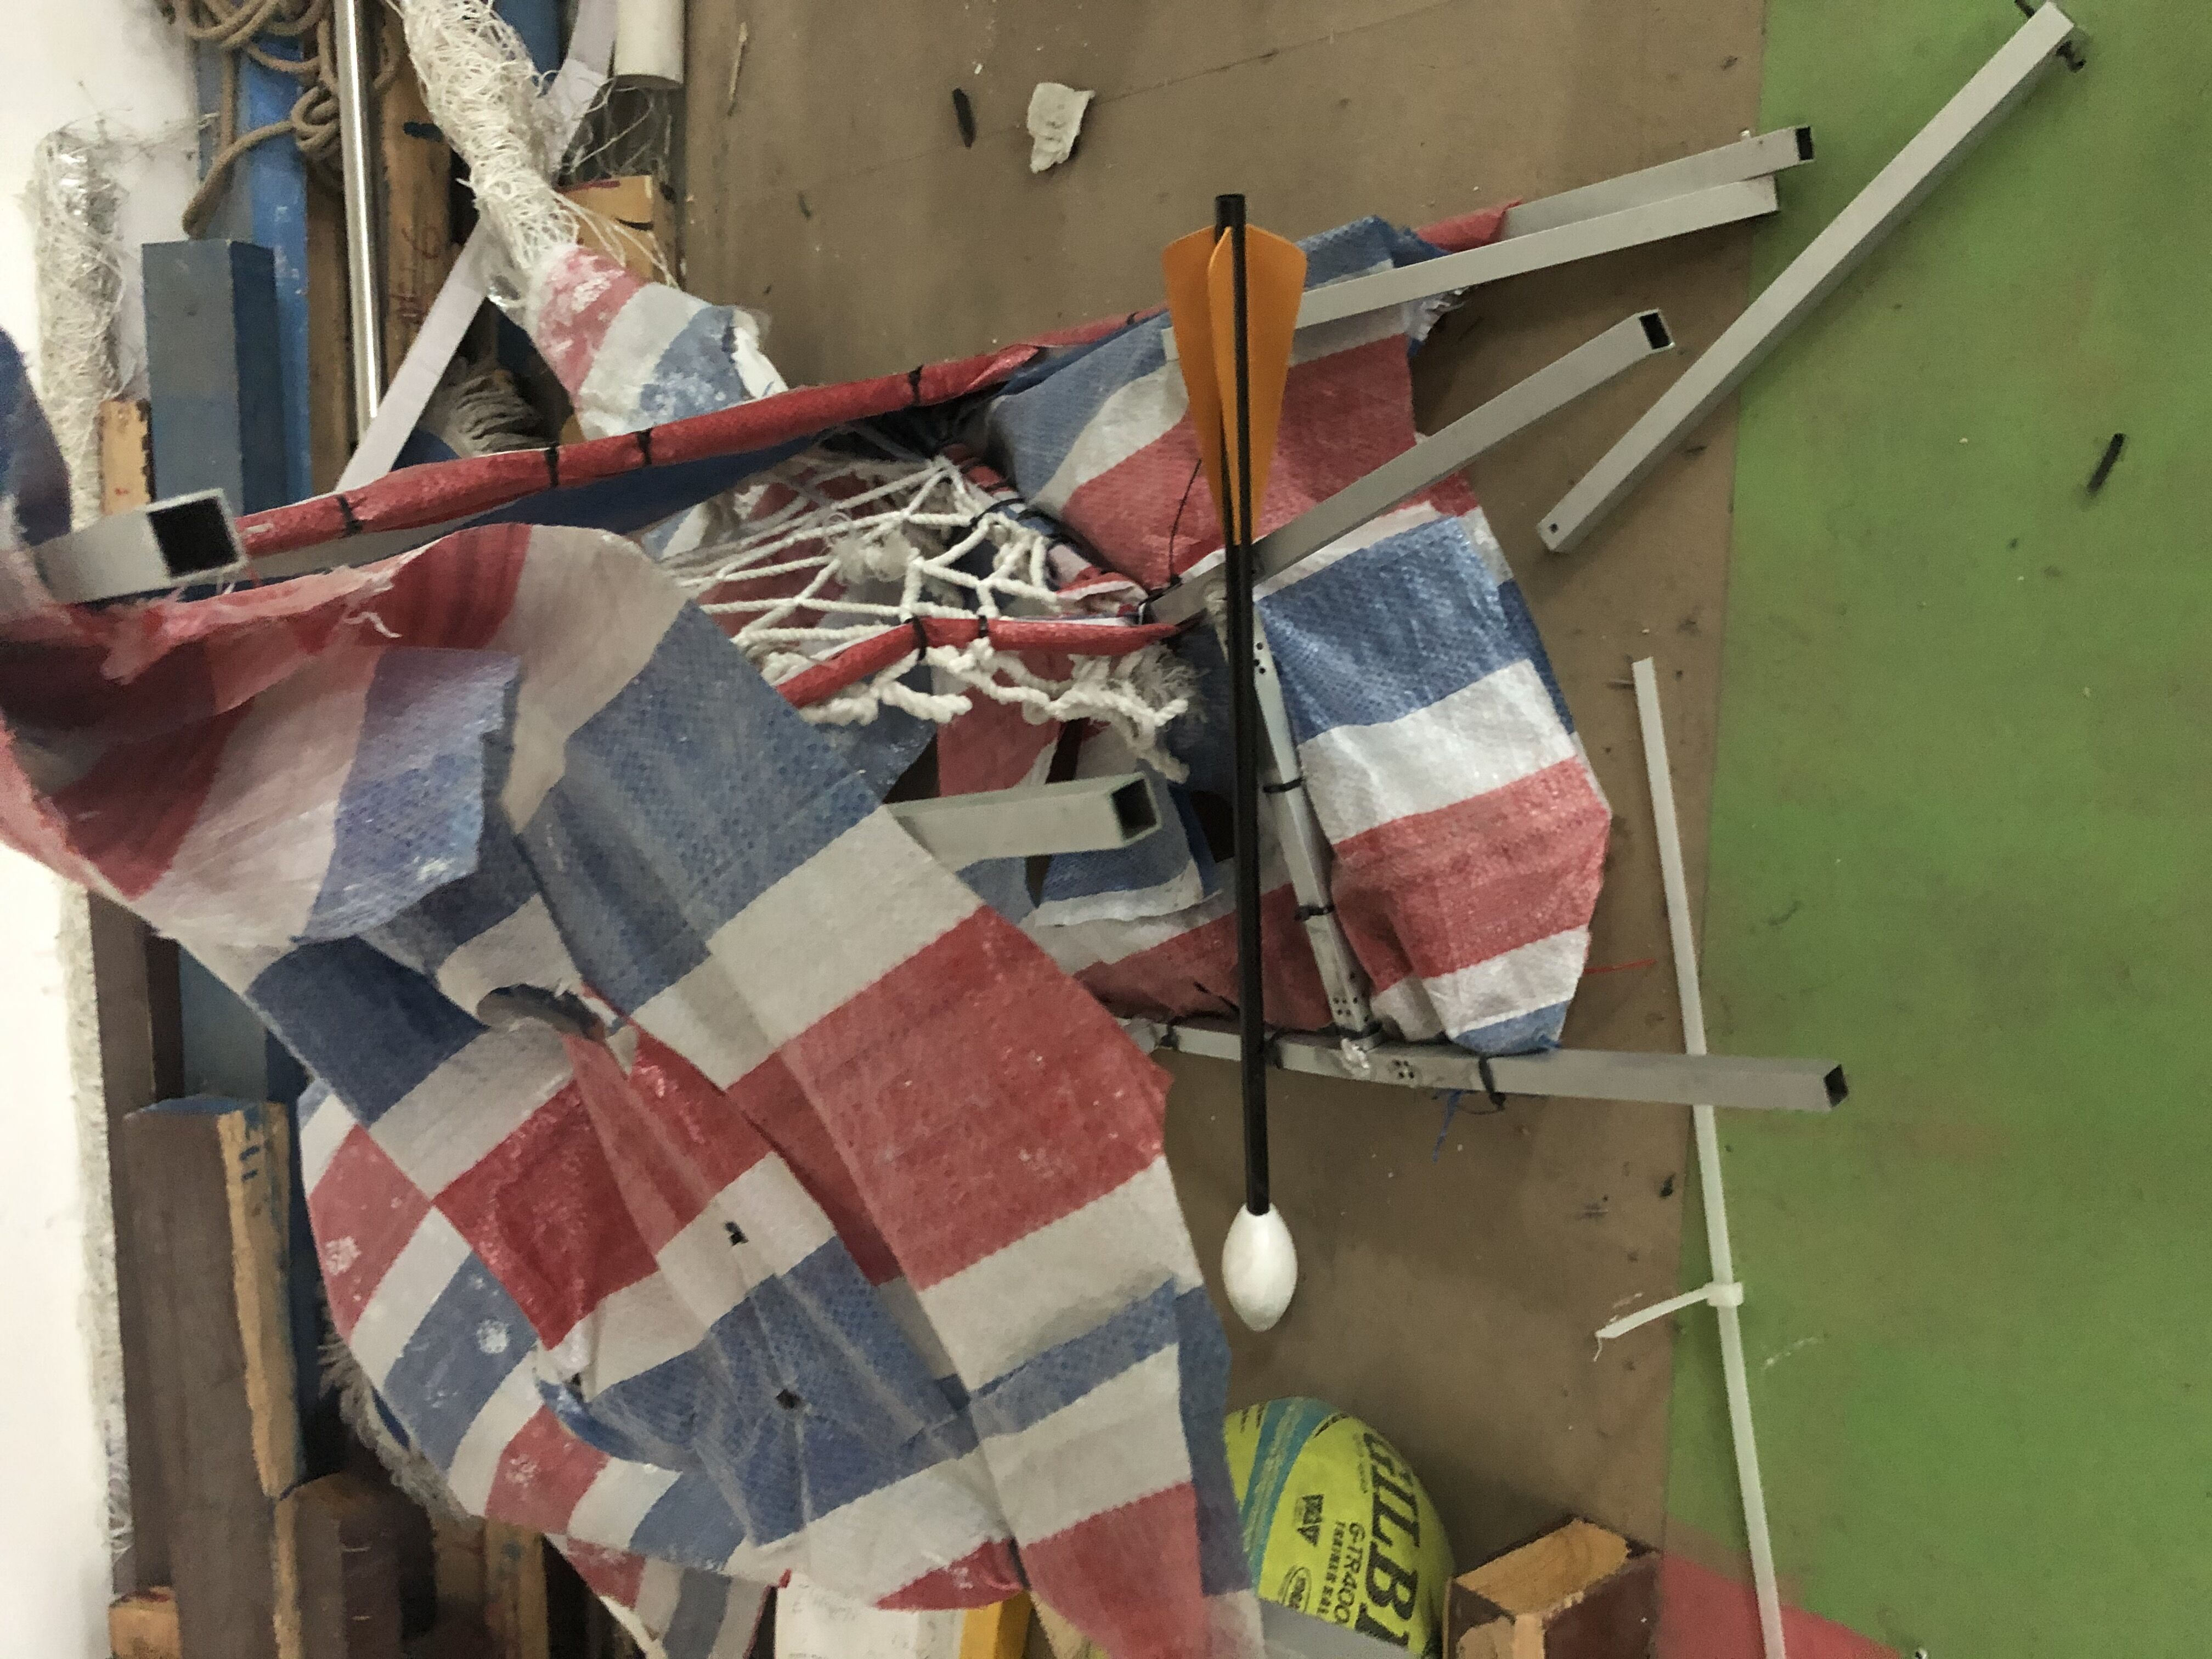arrow: (1153, 186, 1315, 1338)
arrowFront: (1216, 1201, 1301, 1333)
